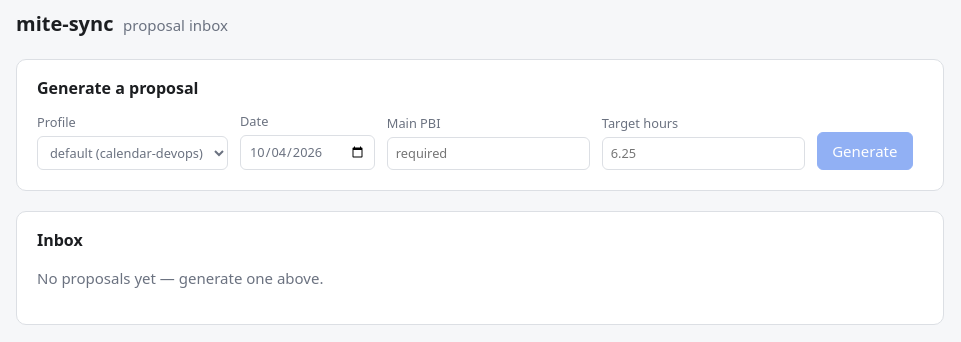
Scenario: App › asks for a main PBI only where the profile needs one
The width and height of the screenshot is (961, 342).
Expected: the number field labelled "Main PBI" is shown, [387,137,590,170]
Select "side (git-activity)" in the dropdown labelled "Profile" at x=132, y=153, box [37,136,228,170]
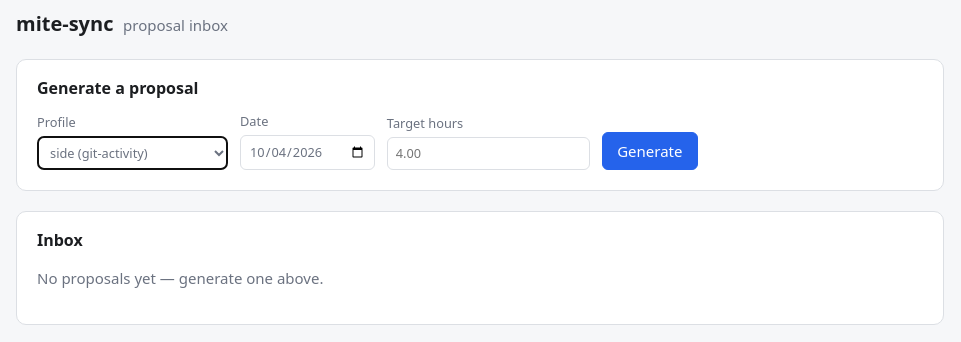
Result: the label labelled "Main PBI" is gone
